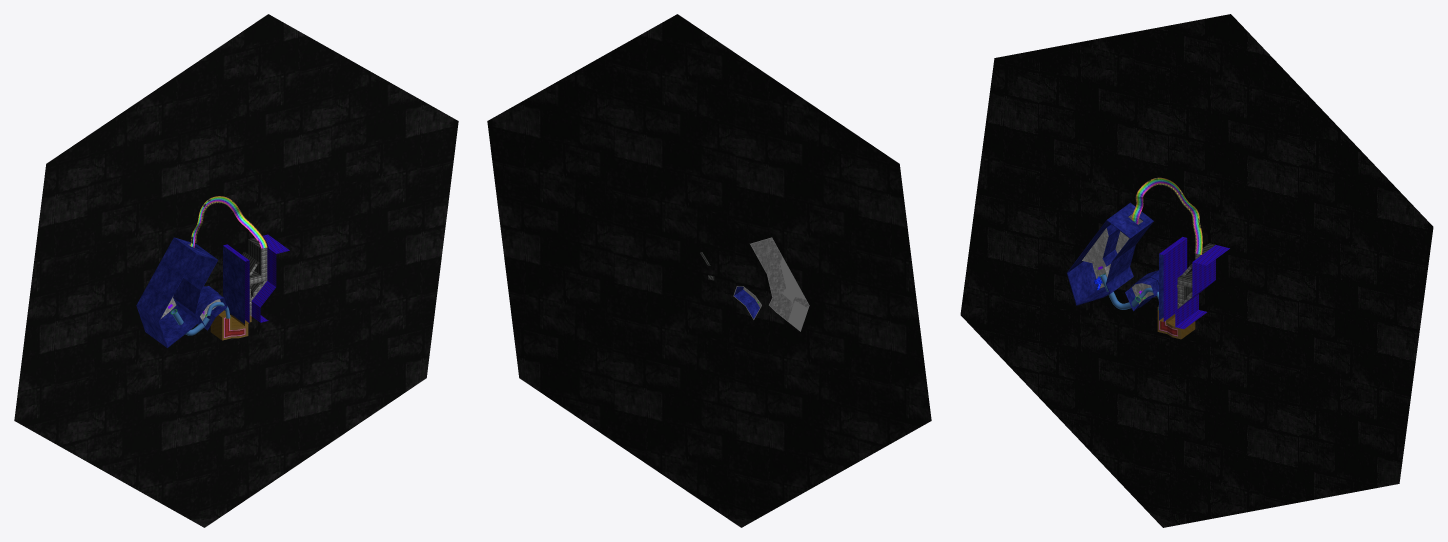
3 renders of one model, left to right at view 1: azimuth 30°, elevation 25°; view 2: azimuth 150°, elevation 25°; view 3: azimuth 330°, elevation 25°, orthographic. The views are drawn at different scales.
Parts seen in each view (by area): view 1: dream_SKP__Darkness, dream_SKP__blue_rockwall, dream_SKP__blue_wall, dream_SKP__rainbow, dream_SKP__metal_walls; view 2: dream_SKP__Darkness, dream_SKP__moon, dream_SKP__Default_Material; view 3: dream_SKP__Darkness, dream_SKP__blue_rockwall, dream_SKP__blue_wall, dream_SKP__moon, dream_SKP__rainbow.
Boxes of the visible parts, bbox=[...] form: dream_SKP__Darkness: bbox=[14, 14, 458, 527]; dream_SKP__blue_rockwall: bbox=[136, 237, 244, 347]; dream_SKP__blue_wall: bbox=[223, 234, 289, 322]; dream_SKP__rainbow: bbox=[190, 196, 266, 248]; dream_SKP__metal_walls: bbox=[242, 238, 263, 297]; dream_SKP__Darkness: bbox=[487, 14, 931, 527]; dream_SKP__moon: bbox=[743, 238, 808, 320]; dream_SKP__Default_Material: bbox=[733, 237, 809, 331]; dream_SKP__Darkness: bbox=[960, 14, 1433, 527]; dream_SKP__blue_rockwall: bbox=[1067, 202, 1163, 320]; dream_SKP__blue_wall: bbox=[1159, 236, 1229, 328]; dream_SKP__moon: bbox=[1082, 213, 1153, 304]; dream_SKP__rainbow: bbox=[1131, 177, 1202, 254].
Size of the model in its own units: 280074 by 300165 by 24214.
Materials: 22 (21 with a texture image).
